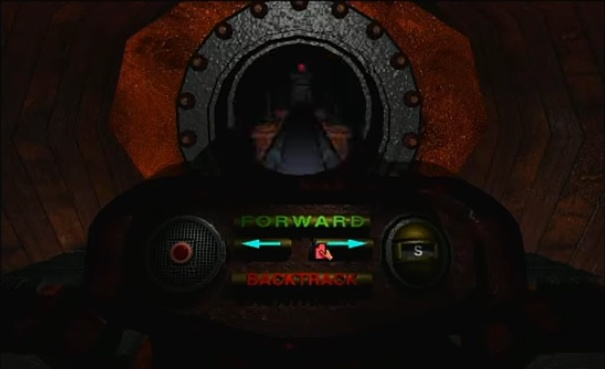Keep: (312, 240, 335, 263)
